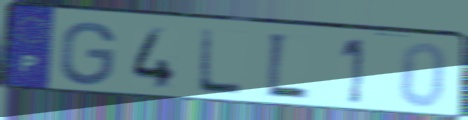0: (397, 40, 452, 111)
1: (337, 37, 367, 105)
4: (129, 26, 178, 91)
G: (57, 19, 119, 88)
L: (263, 29, 312, 104), (195, 27, 246, 98)
